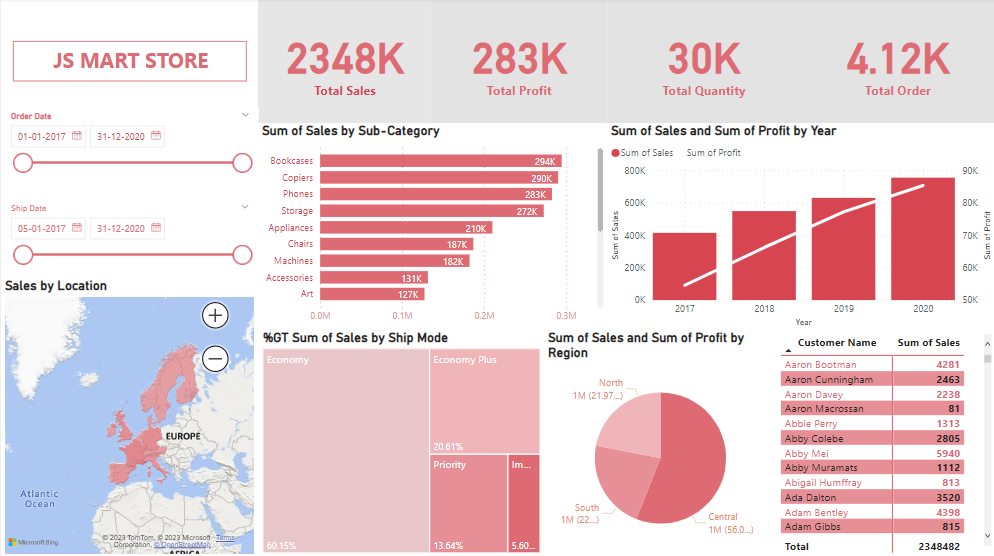

The page's visual inventory and layout, read from the dashboard file:
{"tool":"powerbi","page":{"name":"Page 1","canvas":[1280,720],"ordinal":0},"visuals":[{"type":"pivotTable","fields":{"Values":["Order Breakdown.Sales"],"Rows":["List of Orders.Customer Name"]},"box":[999.5,427.6,280.8,292.4],"z":0},{"type":"clusteredBarChart","title":"Sales by Sub-Category","fields":{"Category":["Order Breakdown.Sub-Category"],"Y":["Order Breakdown.Sales"]},"box":[331,161,449.5,266.6],"z":1000},{"type":"pieChart","title":"Sales and Profit by Region","fields":{"Y":["Order Breakdown.Sales"],"Category":["List of Orders.Region"]},"box":[699.4,427.6,300.1,292.4],"z":2000},{"type":"treemap","title":"Sales by Ship Mode","fields":{"Values":["Order Breakdown.Sales"],"Group":["List of Orders.Ship Mode"]},"box":[332.3,427.6,367.1,292.4],"z":3000},{"type":"lineClusteredColumnComboChart","title":"Sales and Profit by Year","fields":{"Y":["Order Breakdown.Sales"],"Y2":["Order Breakdown.Profit"],"Category":["List of Orders.Order Date.Variation.Date Hierarchy.Year","List of Orders.Order Date.Variation.Date Hierarchy.Quarter","List of Orders.Order Date.Variation.Date Hierarchy.Month","List of Orders.Order Date.Variation.Date Hierarchy.Day"]},"box":[780,161.4,500,267.1],"z":4000},{"type":"filledMap","title":"Sales by Location","fields":{"Category":["List of Orders.Country","List of Orders.State","List of Orders.City"]},"box":[0,360,331.4,360],"z":5000},{"type":"card","fields":{"Values":["Order Breakdown.Sales"]},"box":[331.4,0,224.3,161.4],"z":6000},{"type":"card","fields":{"Values":["Order Breakdown.Profit"]},"box":[555.1,0,225.4,161],"z":7000},{"type":"card","fields":{"Values":["Order Breakdown.Quantity"]},"box":[780,0,250,161.4],"z":8000},{"type":"card","fields":{"Values":["List of Orders.Order ID"]},"box":[1030,0,250,161.4],"z":9000},{"type":"textbox","box":[15.5,55.4,301.4,51.5],"z":11000},{"type":"slicer","fields":{"Values":["List of Orders.Order Date"]},"box":[0,140.4,332.3,118.5],"z":12000},{"type":"slicer","fields":{"Values":["List of Orders.Ship Date"]},"box":[0,258.7,331.9,101.9],"z":13000}]}

Visuals, with their boxes in screenshot pixels (x1, y1, x2, y2), scaled from the page's 1280x720 canvas onto the 994x556 screenshot:
pivotTable - Order Breakdown.Sales x List of Orders.Customer Name: box(776, 330, 993, 555)
"Sales by Sub-Category" clusteredBarChart: box(257, 124, 606, 330)
"Sales and Profit by Region" pieChart: box(543, 330, 776, 555)
"Sales by Ship Mode" treemap: box(258, 330, 543, 555)
"Sales and Profit by Year" lineClusteredColumnComboChart: box(606, 125, 993, 331)
"Sales by Location" filledMap: box(0, 278, 257, 555)
card - Order Breakdown.Sales: box(257, 0, 432, 125)
card - Order Breakdown.Profit: box(431, 0, 606, 124)
card - Order Breakdown.Quantity: box(606, 0, 800, 125)
card - List of Orders.Order ID: box(800, 0, 993, 125)
textbox: box(12, 43, 246, 83)
slicer - List of Orders.Order Date: box(0, 108, 258, 200)
slicer - List of Orders.Ship Date: box(0, 200, 258, 278)
